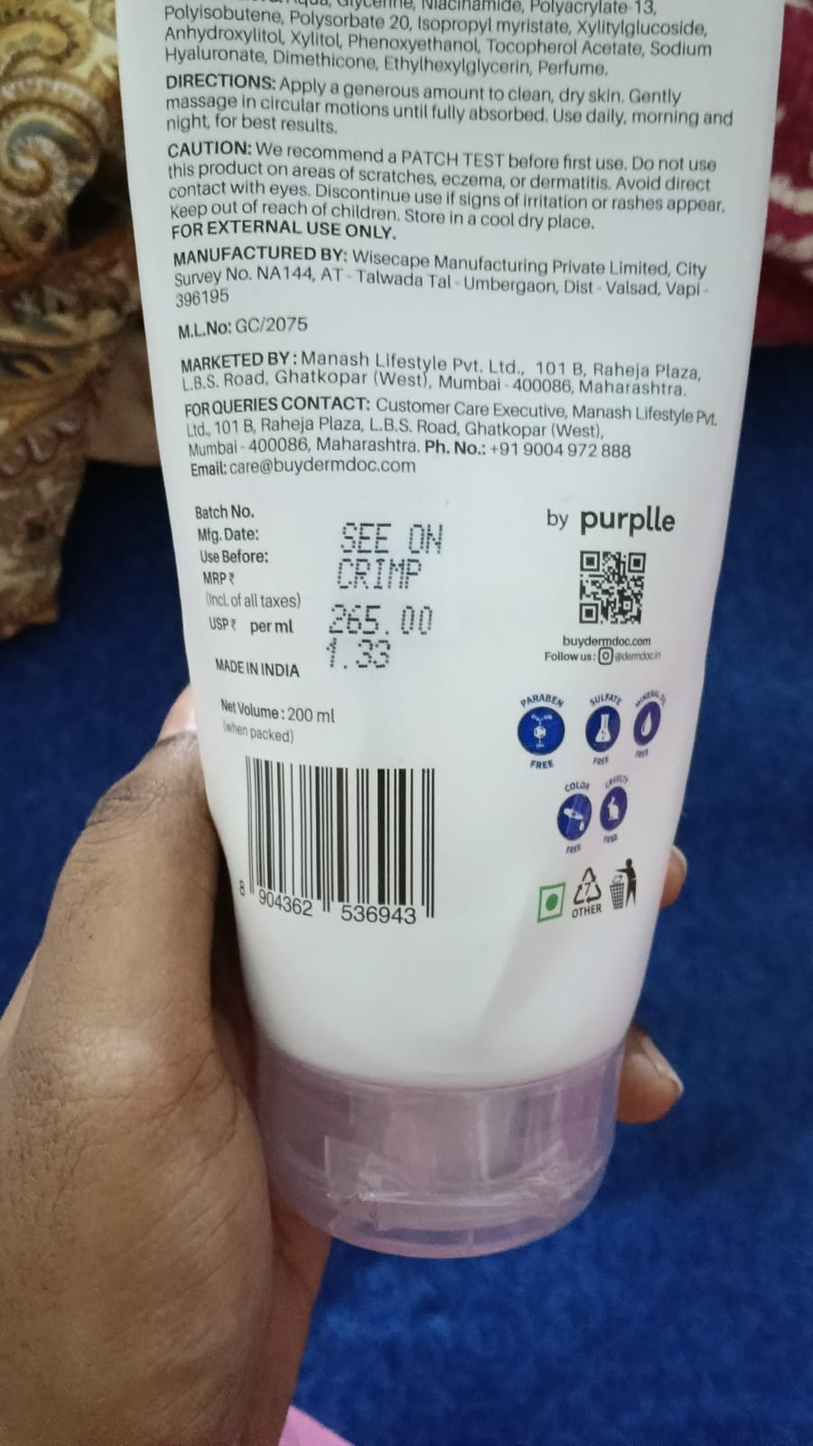consumer_care: (181, 404, 723, 481)
manufacturer: (168, 246, 727, 311)
mrp: (201, 572, 460, 638)
net_qty: (212, 694, 351, 730)
